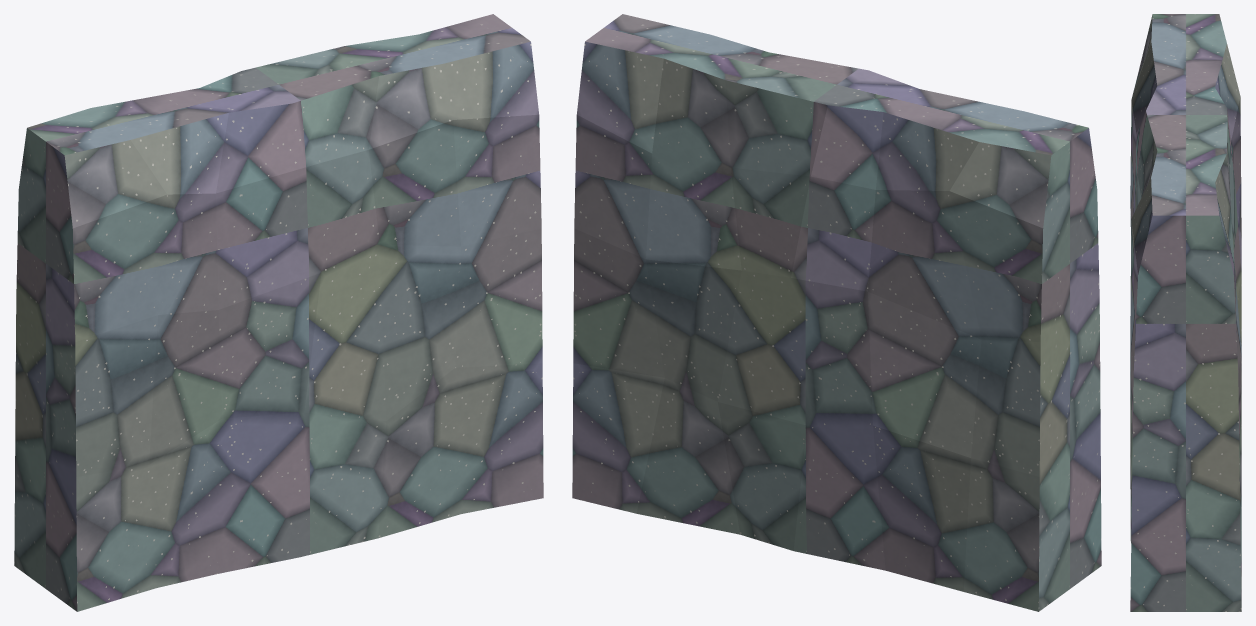
Rendered from 해안방파제.fbx.
3 renders of one model, left to right at view 1: azimuth 30°, elevation 25°; view 2: azimuth 150°, elevation 25°; view 3: azimuth 270°, elevation 25°, orthographic. The views are drawn at different scales.
Parts seen in each view (by area): view 1: 해안방파제; view 2: 해안방파제; view 3: 해안방파제.
Part boxes in pixels (x1=…): 해안방파제: x1=14, y1=14, x2=543, y2=611; 해안방파제: x1=572, y1=14, x2=1101, y2=611; 해안방파제: x1=1130, y1=14, x2=1241, y2=611.
Bounding box in the file's own units: 600 × 550 × 140.
1 material, 1 textured.
